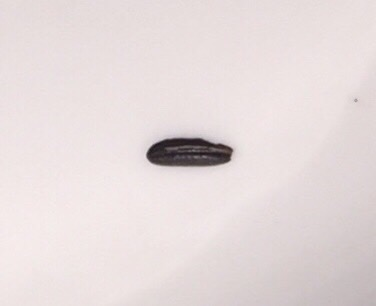Gao Nep Cam: (144, 131, 236, 172)
